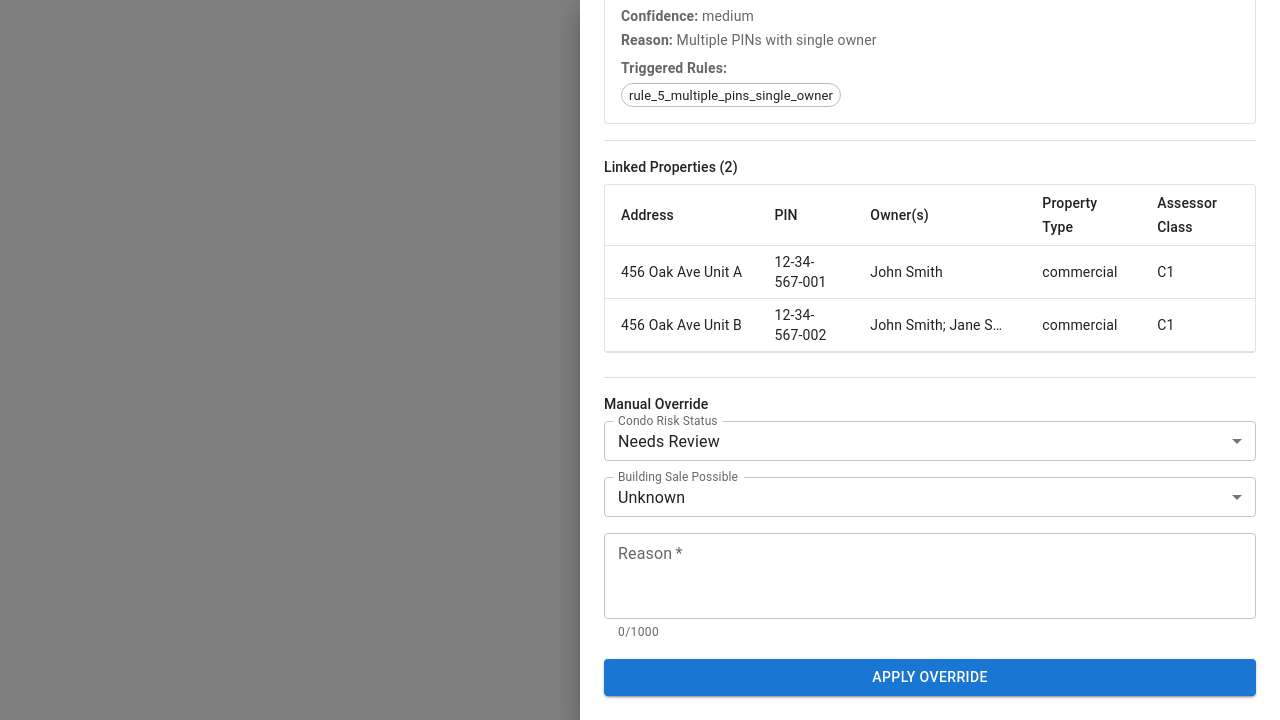
CondoDetailView › shows success message after override
(page scrolled)
# Fill in reason (required field)
In the text box labelled "Reason *": point(930, 576) [618,542,1242,611], type "Test reason"
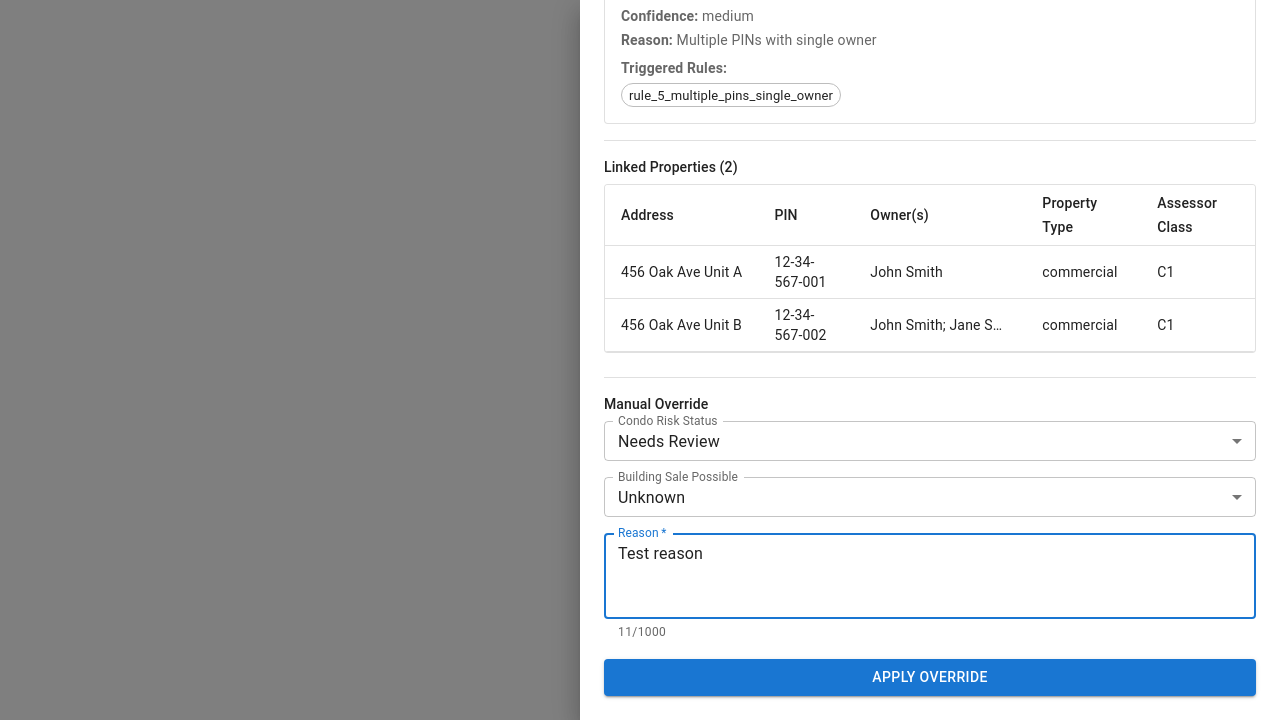
Click the button "Apply Override": point(930, 677) [604,659,1256,696]
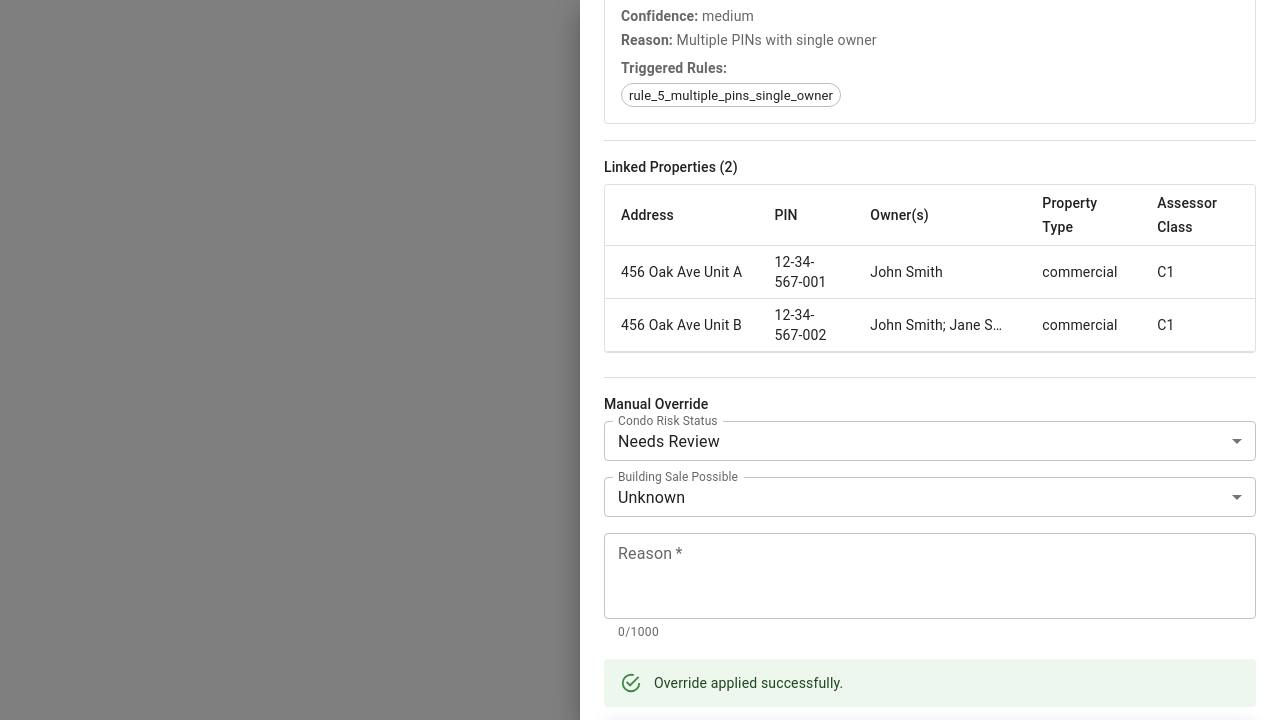
Result: the text "Override applied successfully." is shown at [654,675,843,691]
